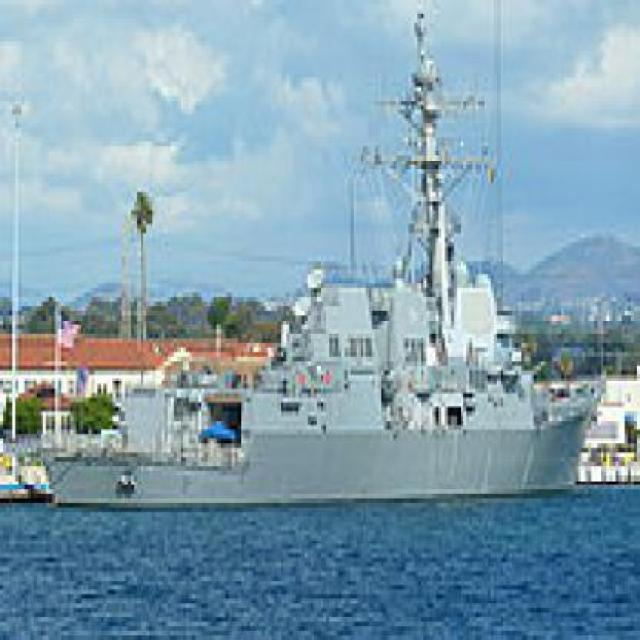warship2: (29, 1, 601, 523)
